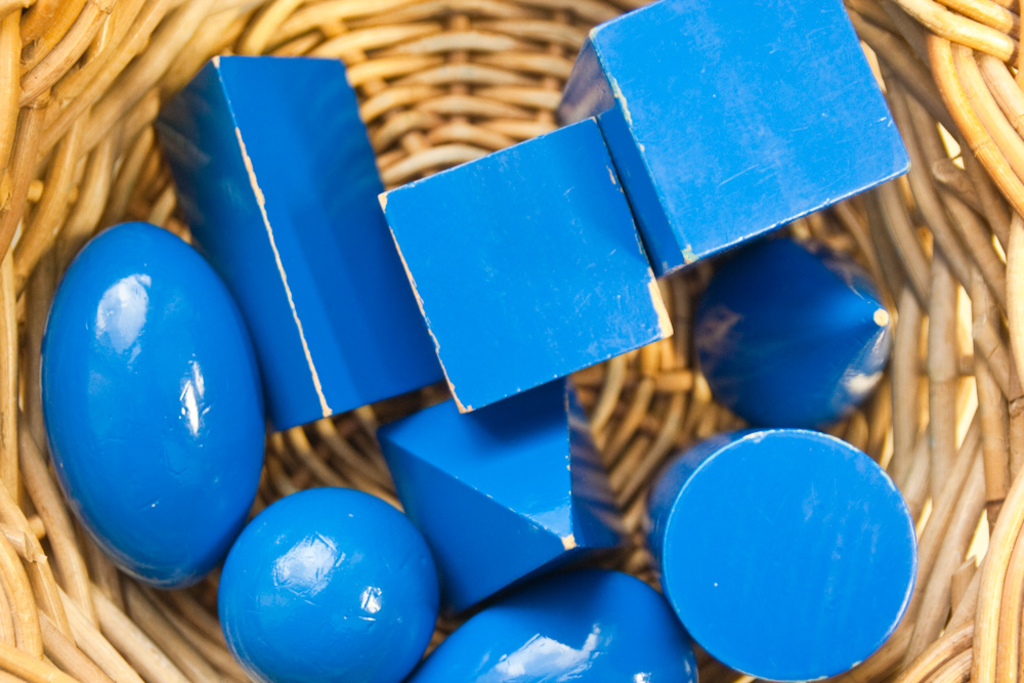Ball: (214, 488, 440, 682), (692, 242, 893, 432)
